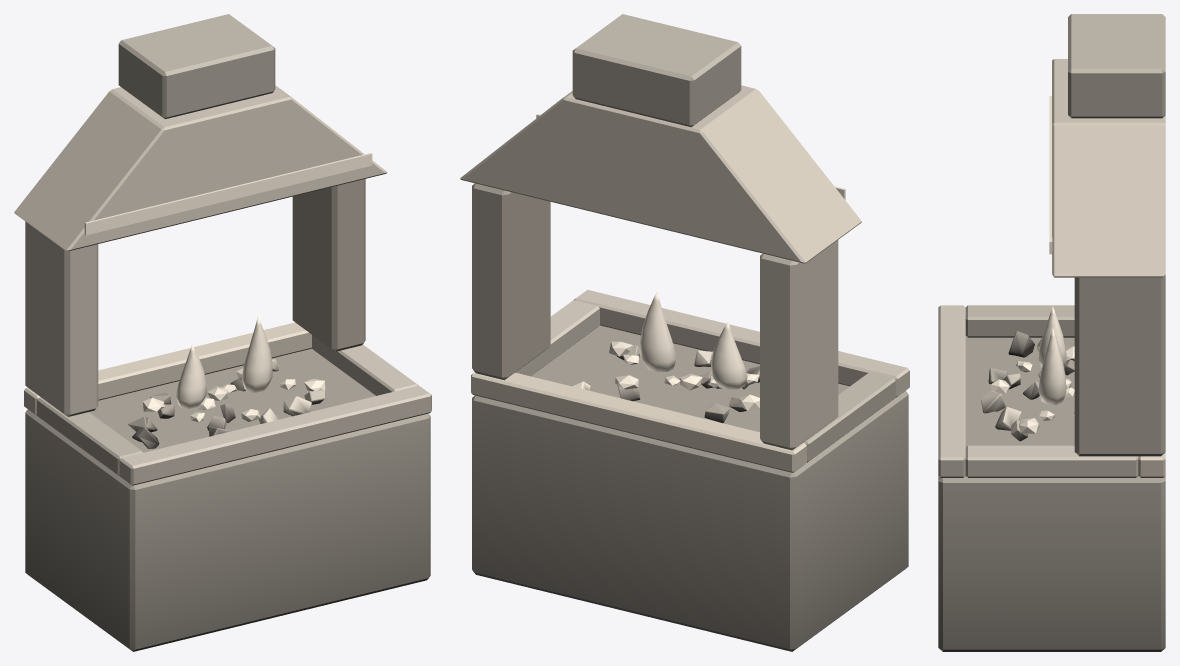
Rendered from SM_VKI_Prop_Forge_Dwarf.fbx.
The picture shows the model from 3 angles, left to right: view 1: azimuth 30°, elevation 25°; view 2: azimuth 150°, elevation 25°; view 3: azimuth 270°, elevation 25°; orthographic projection. The views are drawn at different scales.
Parts seen in each view (by area): view 1: SM_VKI_Prop_Forge_Dwarf.001; view 2: SM_VKI_Prop_Forge_Dwarf.001; view 3: SM_VKI_Prop_Forge_Dwarf.001.
Boxes of the visible parts, x1,y1,x2,y2 form: SM_VKI_Prop_Forge_Dwarf.001: [14, 14, 431, 651]; SM_VKI_Prop_Forge_Dwarf.001: [460, 14, 909, 651]; SM_VKI_Prop_Forge_Dwarf.001: [938, 14, 1165, 651].
Bounding box in the file's own units: 1.71 × 2.6 × 1.
